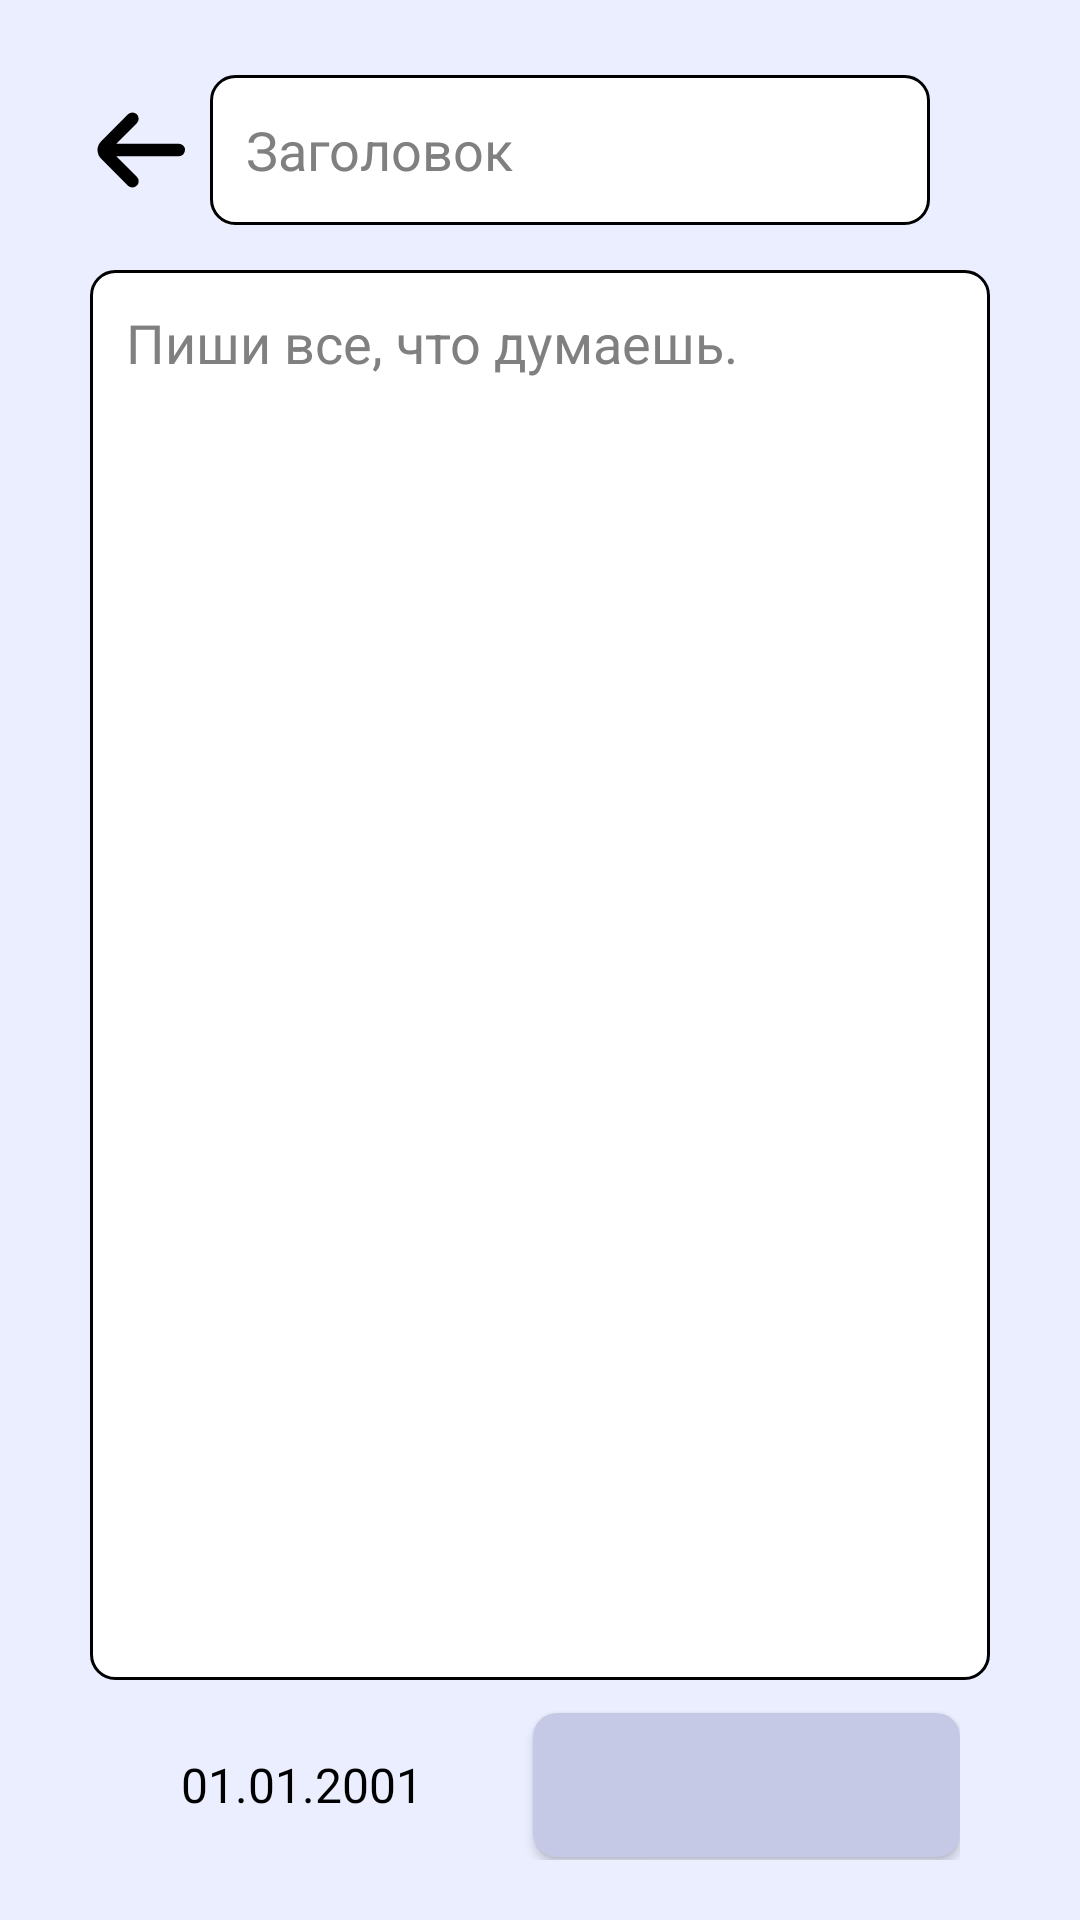

Point at icon controls on the screen. Image size 1080px x 1920px, points as point (x, y).
Назад: point (141, 150)
